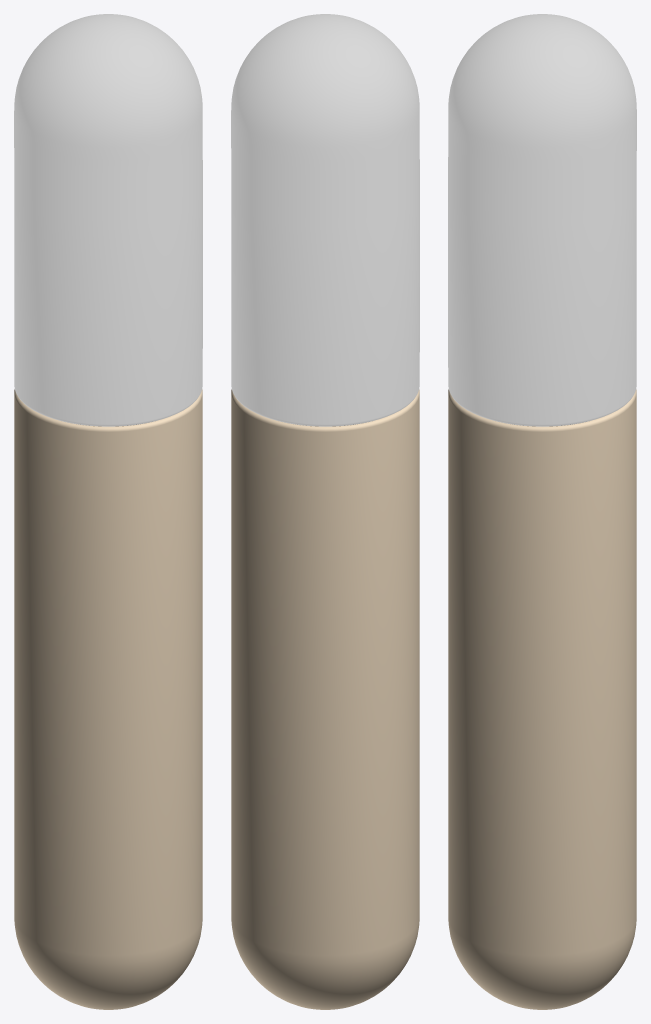
Rendered from pillar.gltf.
The picture shows the model from 3 angles, left to right: view 1: azimuth 30°, elevation 25°; view 2: azimuth 150°, elevation 25°; view 3: azimuth 270°, elevation 25°; orthographic projection.
Visible parts, largest first — view 1: Bottom_Gold, Capsule_Gold; view 2: Bottom_Gold, Capsule_Gold; view 3: Bottom_Gold, Capsule_Gold.
Boxes of the visible parts, bbox=[...] form: Bottom_Gold: bbox=[14, 389, 202, 1009]; Capsule_Gold: bbox=[14, 14, 202, 426]; Bottom_Gold: bbox=[231, 389, 419, 1009]; Capsule_Gold: bbox=[231, 14, 419, 426]; Bottom_Gold: bbox=[448, 389, 636, 1009]; Capsule_Gold: bbox=[448, 14, 636, 426].
Bounding box in the file's own units: 1.97 × 11.29 × 1.97.
